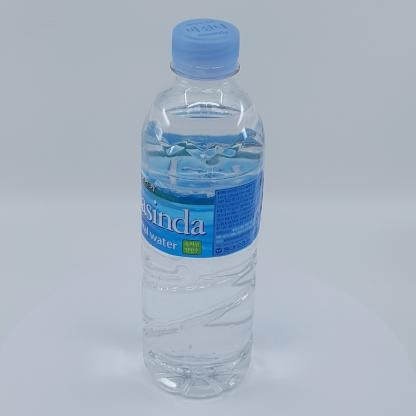-------------500ML: (140, 18, 265, 399)
